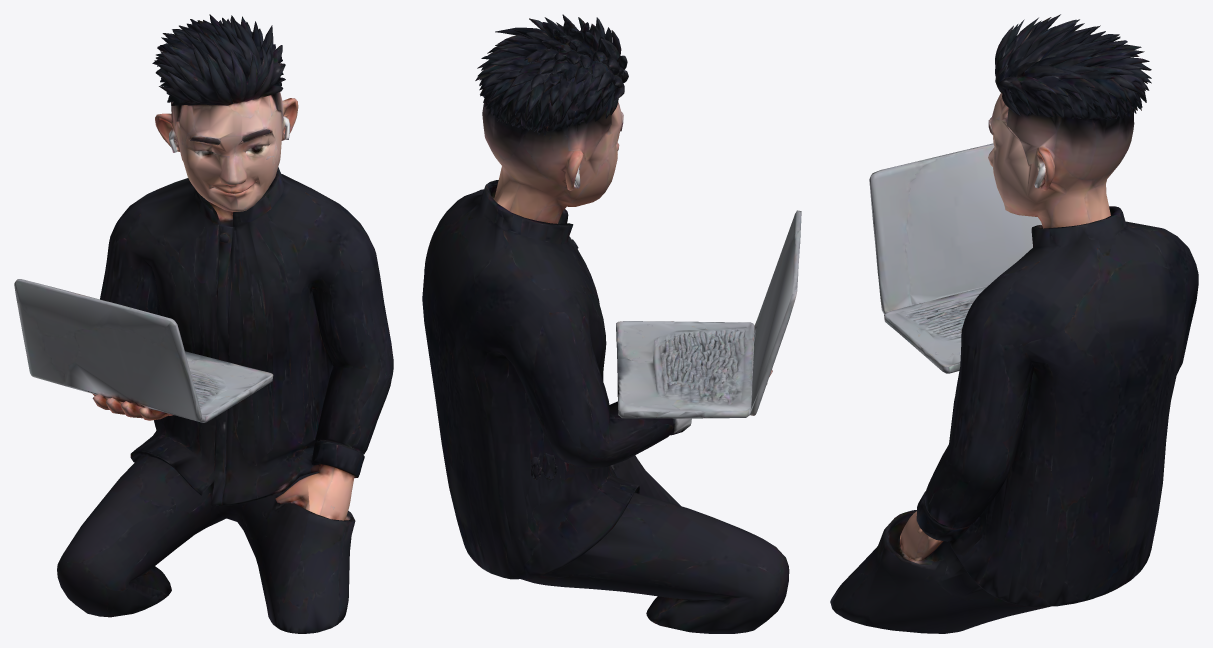
File: character-low.glb
3 views of the same model, side by side, from view 1: azimuth 30°, elevation 25°; view 2: azimuth 150°, elevation 25°; view 3: azimuth 270°, elevation 25° (orthographic). The views are drawn at different scales.
Parts seen in each view (by area): view 1: node_0; view 2: node_0; view 3: node_0.
Part boxes in pixels (left/top/right/bottom): node_0: left=14, top=14, right=393, bottom=633; node_0: left=422, top=14, right=801, bottom=633; node_0: left=830, top=14, right=1198, bottom=633.
Size of the model in its own units: 0.7018 by 1.03 by 0.5935.
Materials: 1 (1 with a texture image).
